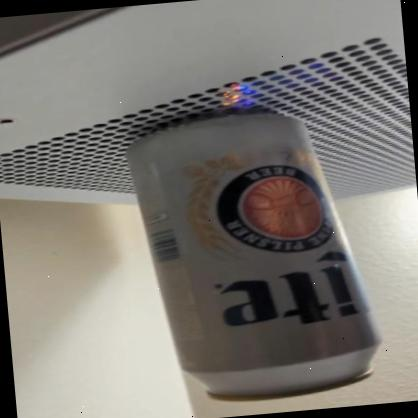can: (124, 110, 389, 412)
